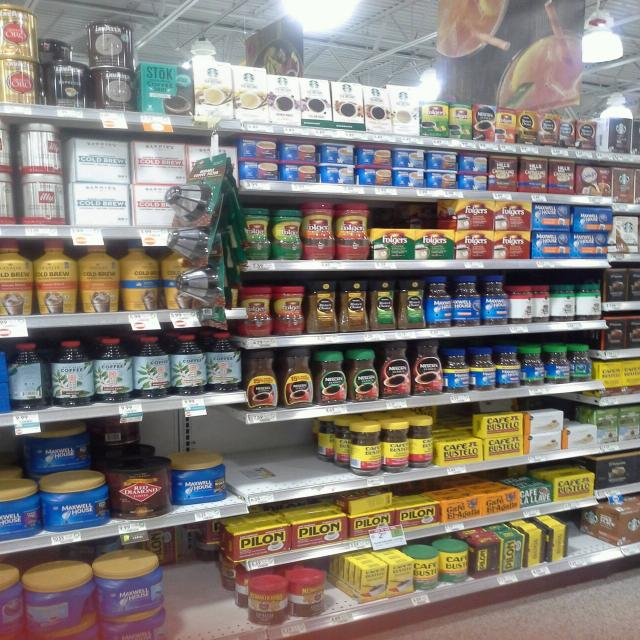void: (264, 424, 306, 500), (310, 424, 353, 494)
